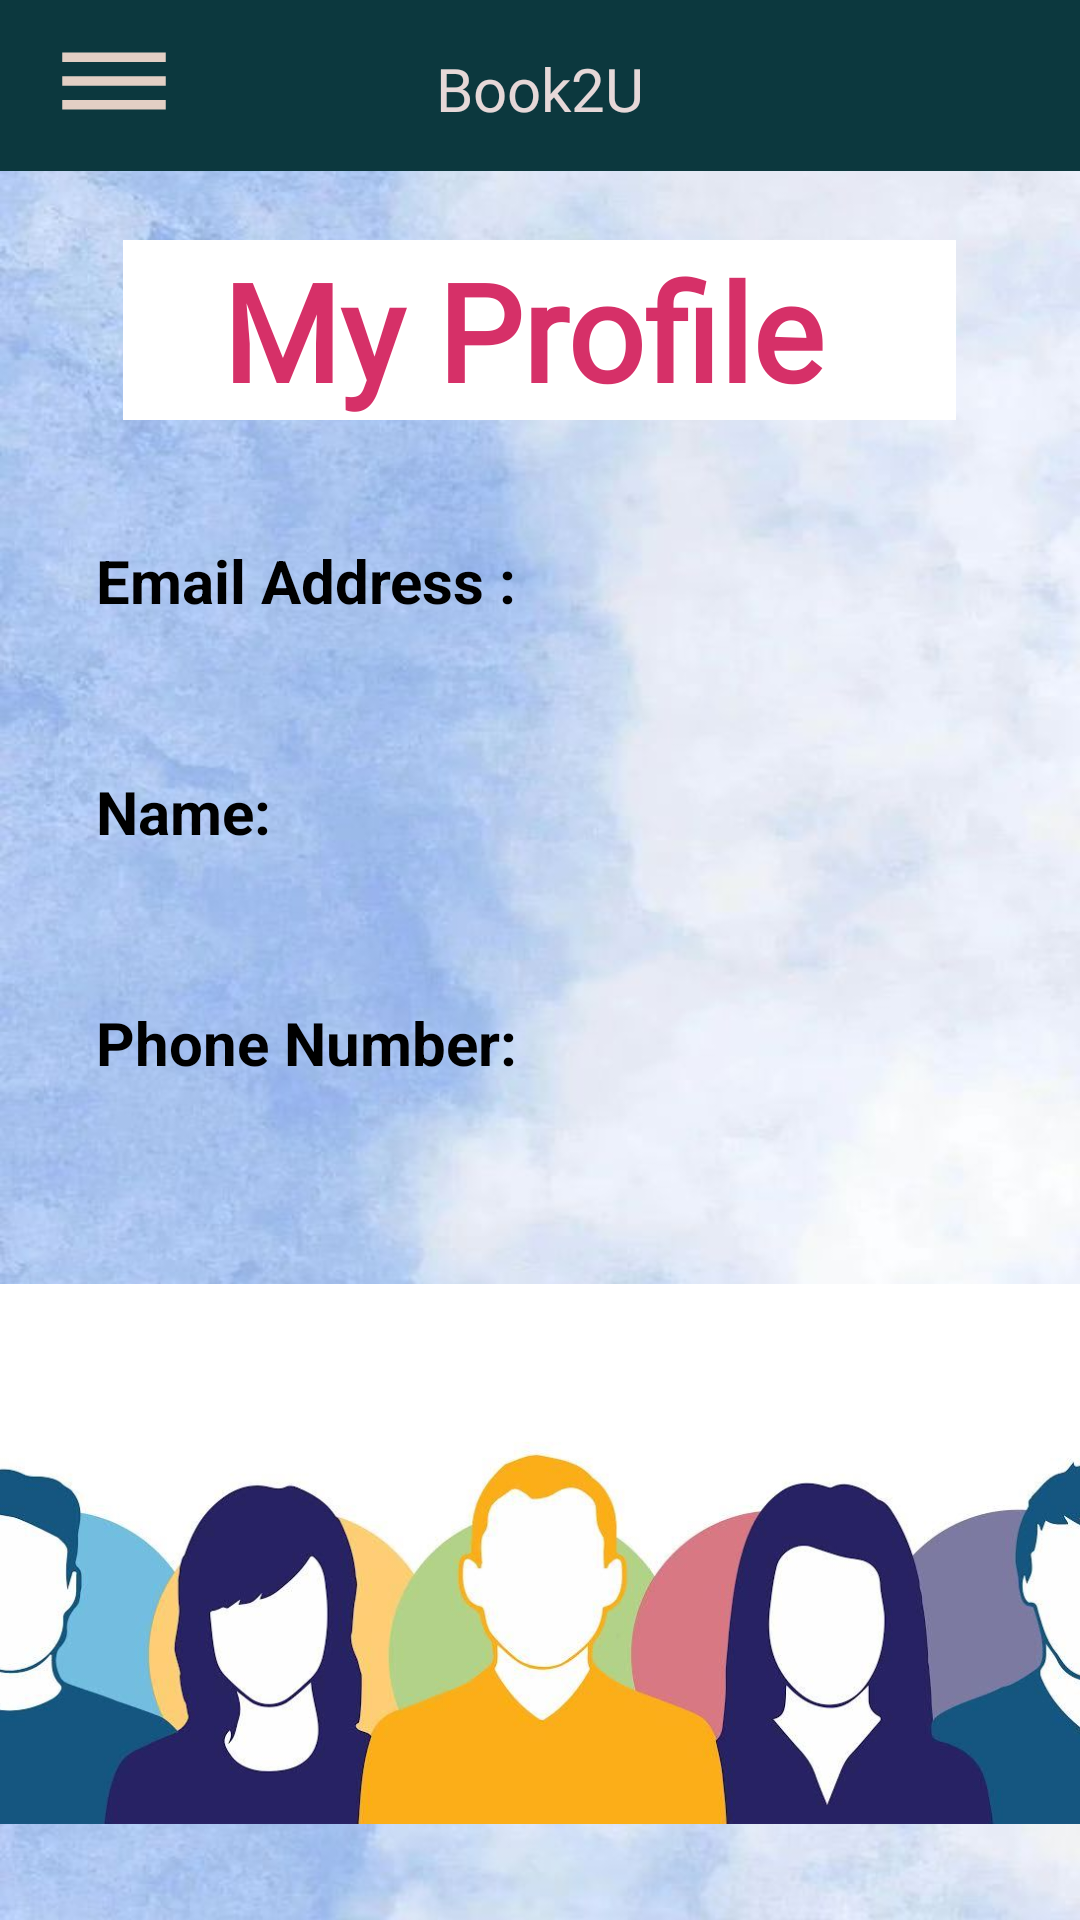

Icon click points for this 1080 x 1920 phone screenshot, format point (x, y):
menu: point (114, 81)
